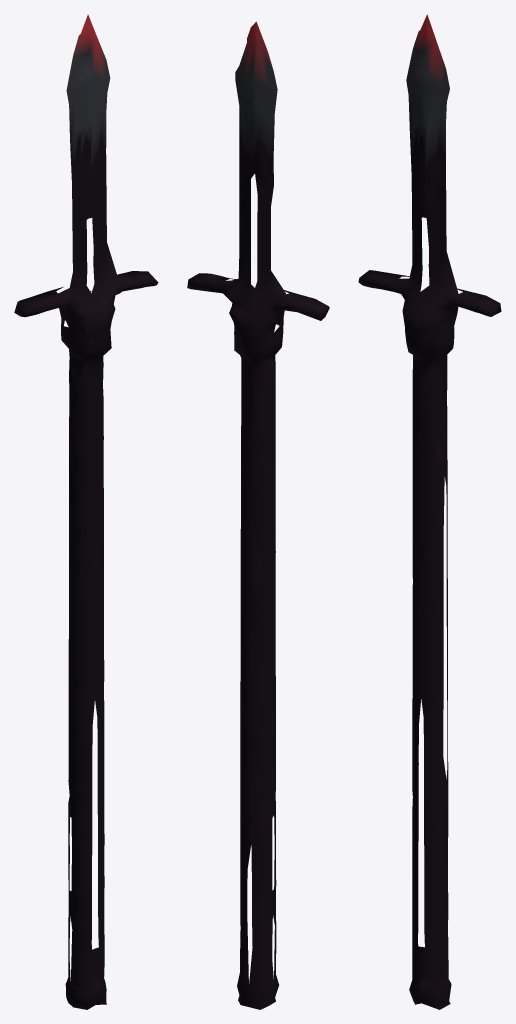
The model's file is yari_spear_v1_colored.glb.
The picture shows the model from 3 angles, left to right: view 1: azimuth 30°, elevation 25°; view 2: azimuth 150°, elevation 25°; view 3: azimuth 330°, elevation 25°; orthographic projection.
Parts seen in each view (by area): view 1: world; view 2: world; view 3: world.
Part boxes in pixels (left/top/right/bottom): world: left=14, top=14, right=158, bottom=1009; world: left=187, top=21, right=329, bottom=1009; world: left=358, top=14, right=501, bottom=1009.
Bounding box in the file's own units: 0.271 × 1.9 × 0.107.
